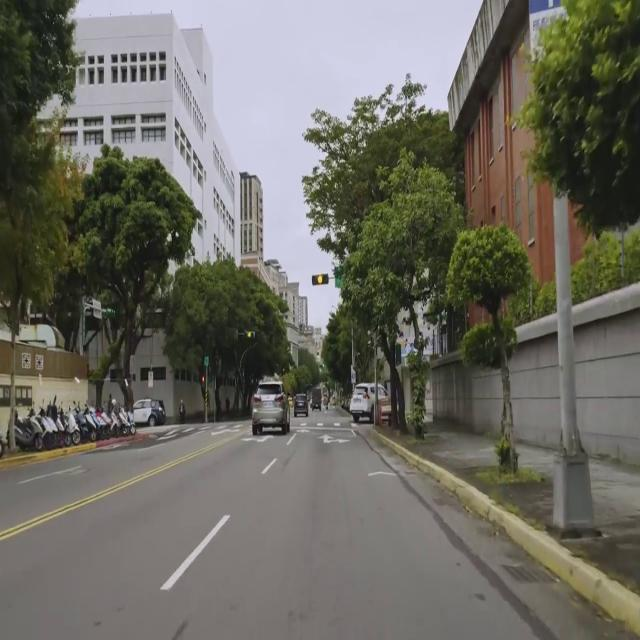yellow light: (312, 274, 329, 285), (244, 329, 254, 340)
